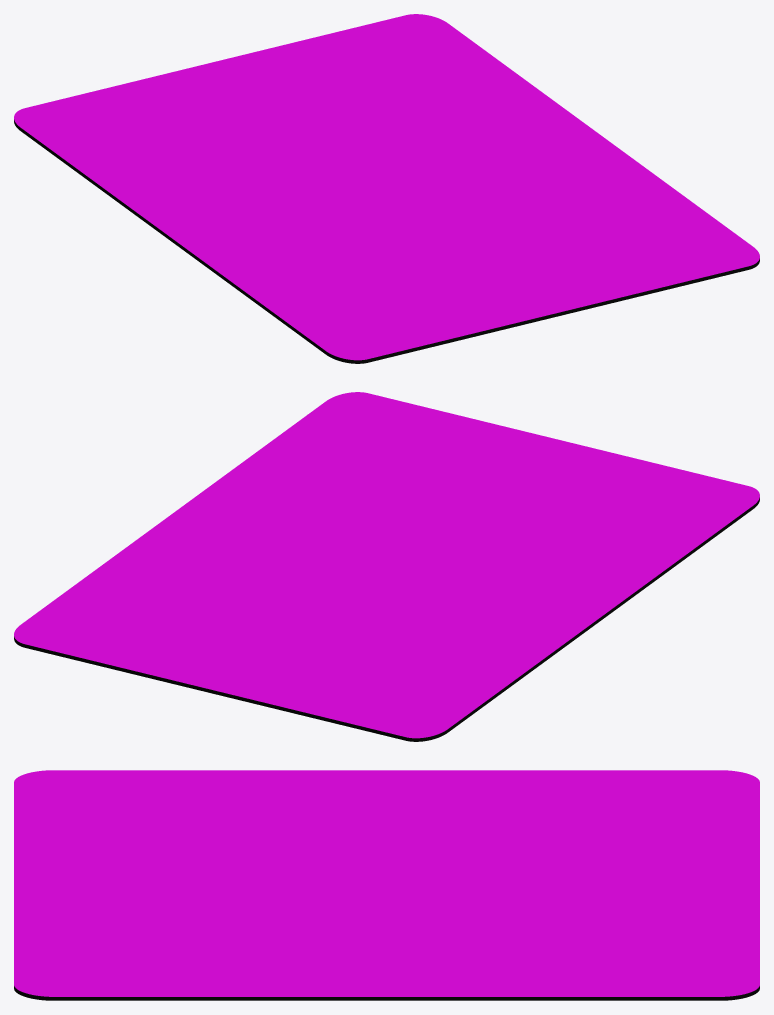
File: Card.fbx
3 views of the same model, one above another, from view 1: azimuth 30°, elevation 25°; view 2: azimuth 150°, elevation 25°; view 3: azimuth 270°, elevation 25° (orthographic). The views are drawn at different scales.
Visible parts, largest first — view 1: Card; view 2: Card; view 3: Card.
Boxes of the visible parts, left/top/right/bottom form: Card: left=14, top=14, right=759, bottom=363; Card: left=14, top=392, right=759, bottom=741; Card: left=14, top=770, right=759, bottom=1000.
Size of the model in its own units: 503 by 4 by 699.
